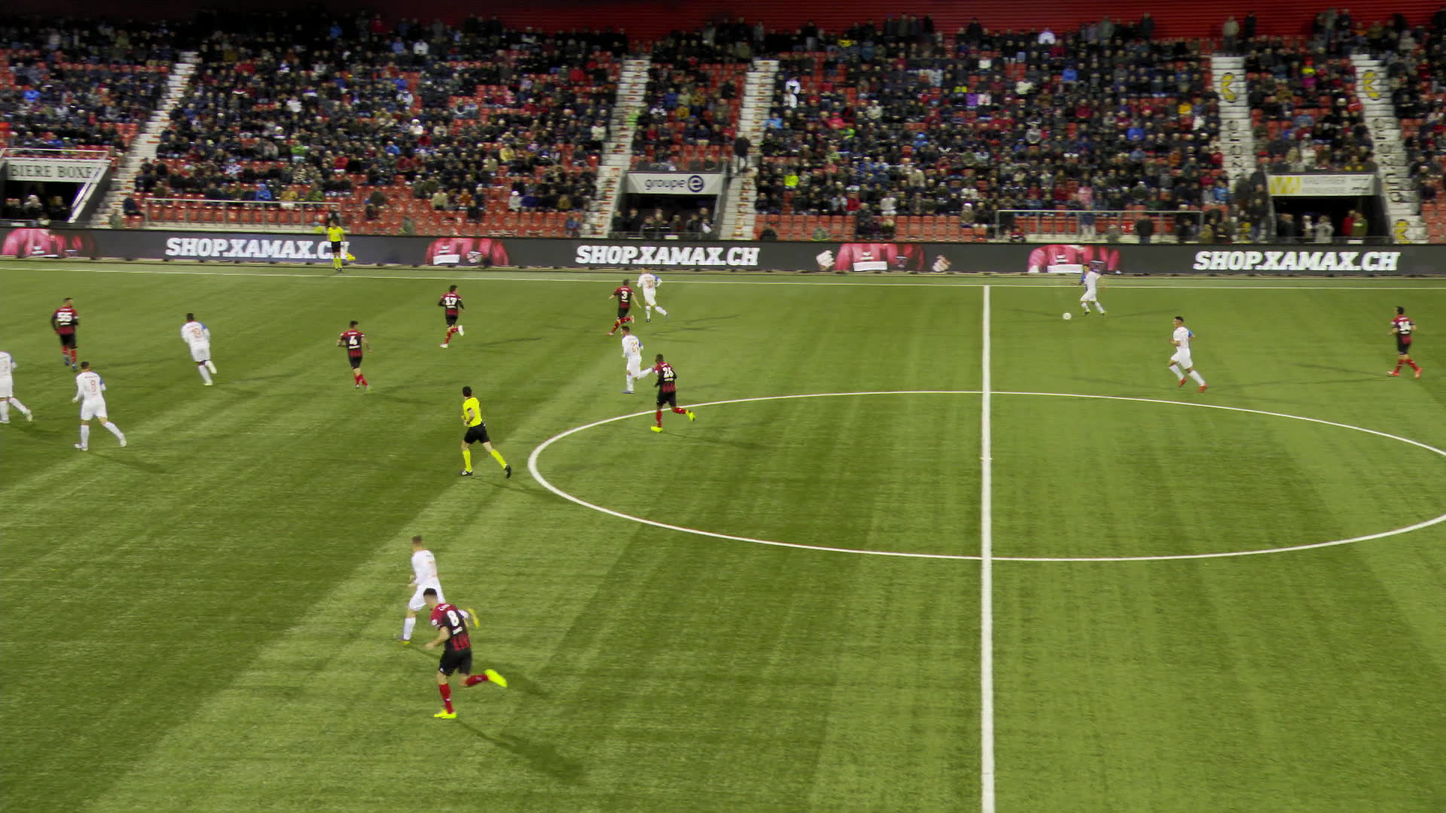ball: (1063, 313, 1069, 319)
player: (424, 586, 508, 722), (407, 534, 450, 639), (70, 362, 114, 453), (1165, 317, 1207, 390), (649, 352, 685, 434), (175, 309, 213, 382), (616, 321, 651, 390), (335, 322, 368, 393), (1383, 306, 1412, 378), (0, 352, 29, 422), (47, 299, 76, 368), (606, 277, 640, 333), (435, 283, 463, 349), (1070, 266, 1101, 317), (636, 266, 660, 326)
referee: (457, 388, 500, 478), (322, 222, 344, 272)
